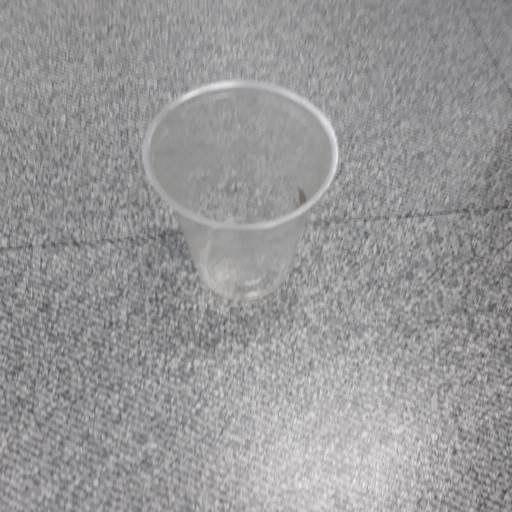Plastic_2: (137, 79, 344, 303)
